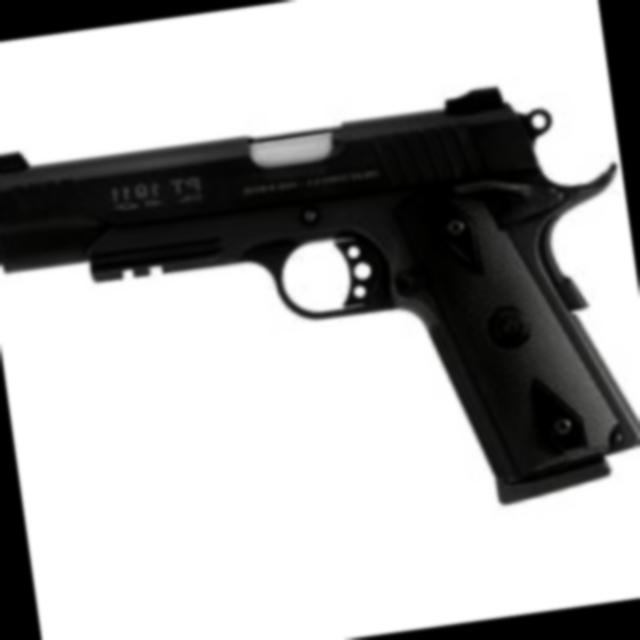semi automatic: (0, 49, 640, 576)
